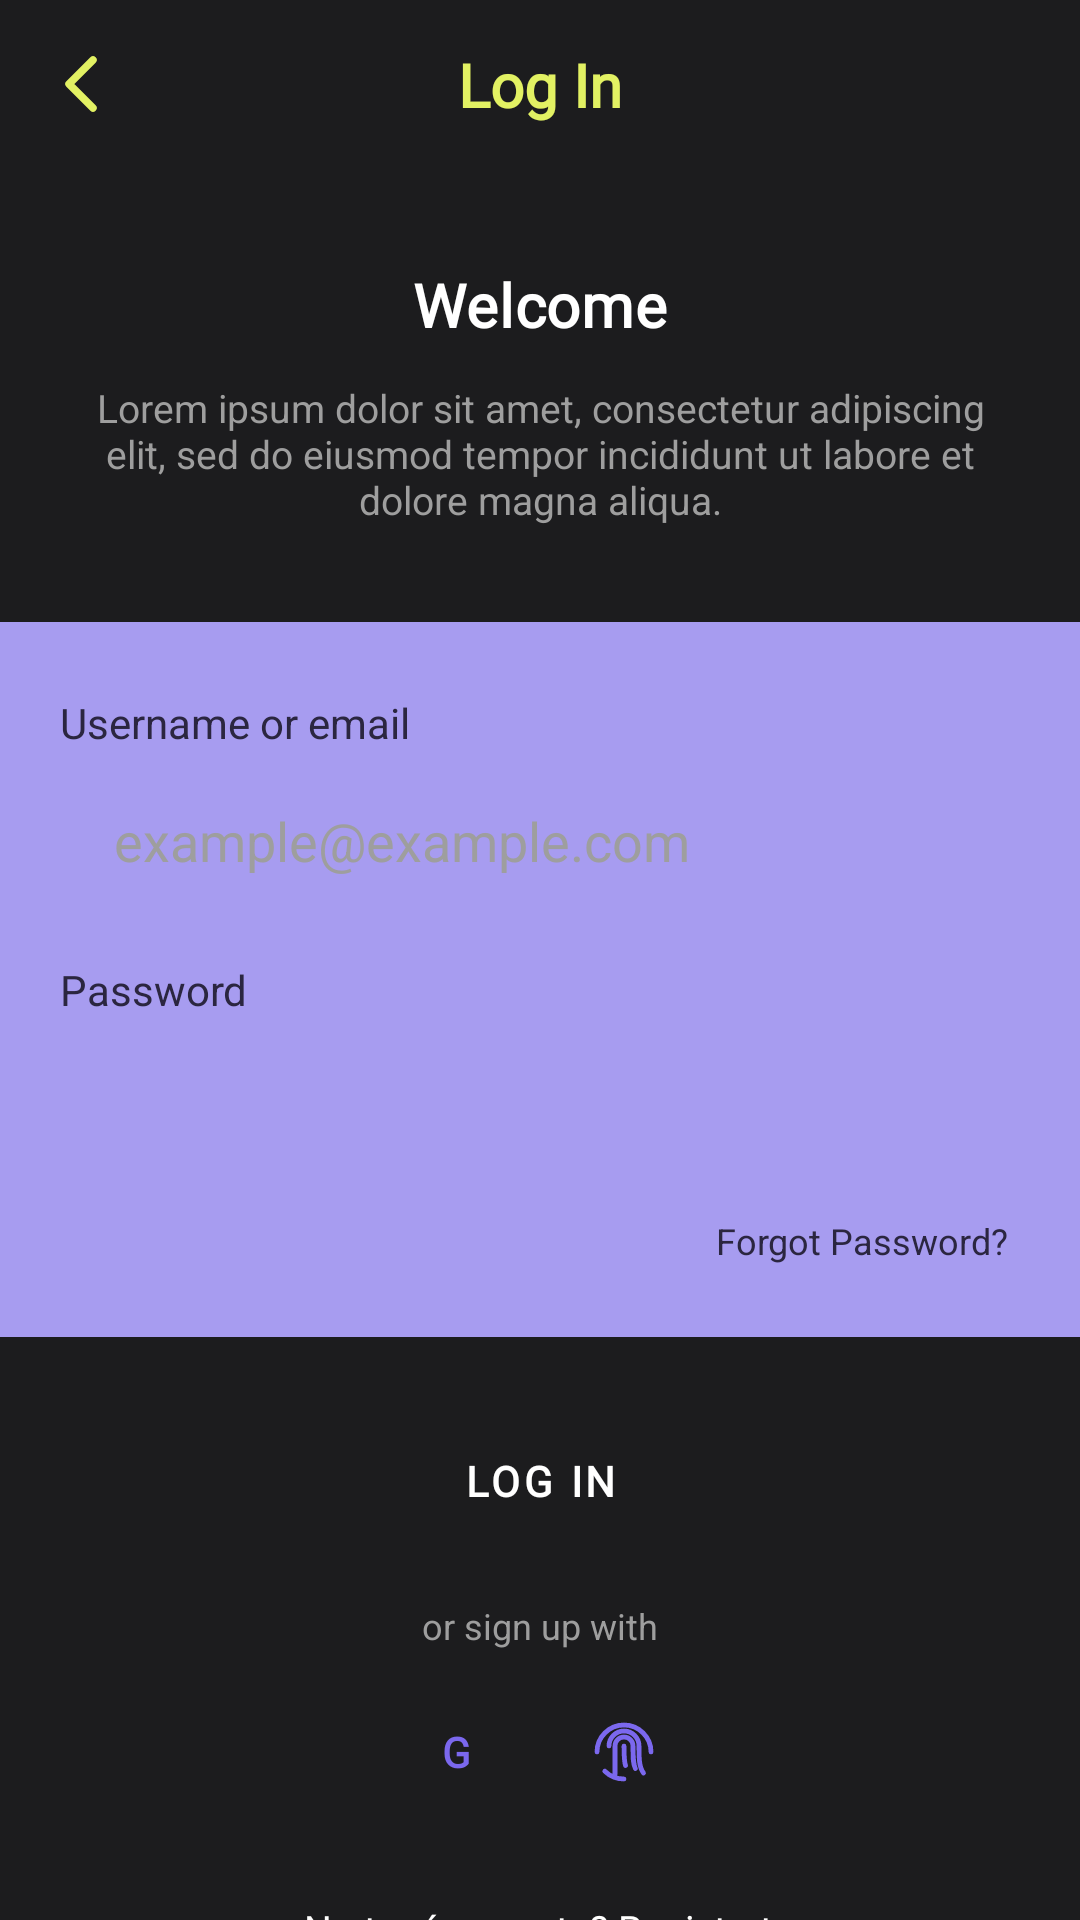

Icon click points for this 1080*1920 phone screenshot, format (x=x, y=y):
fingerprint: (x=624, y=1752)
Volver: (x=81, y=84)
